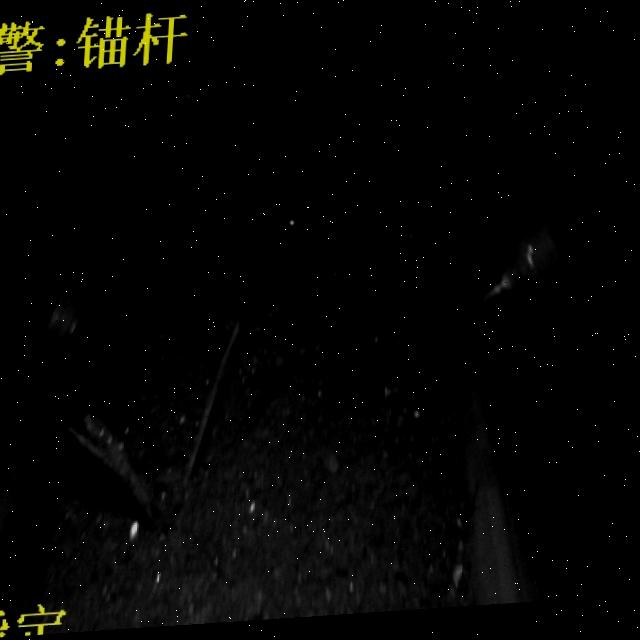bolt: (68, 319, 245, 551)
